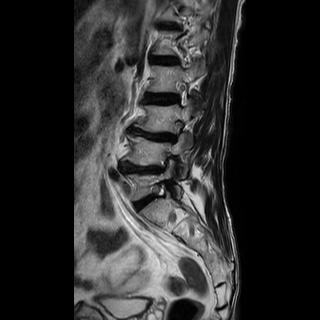LFS0: (166, 78, 193, 112)
